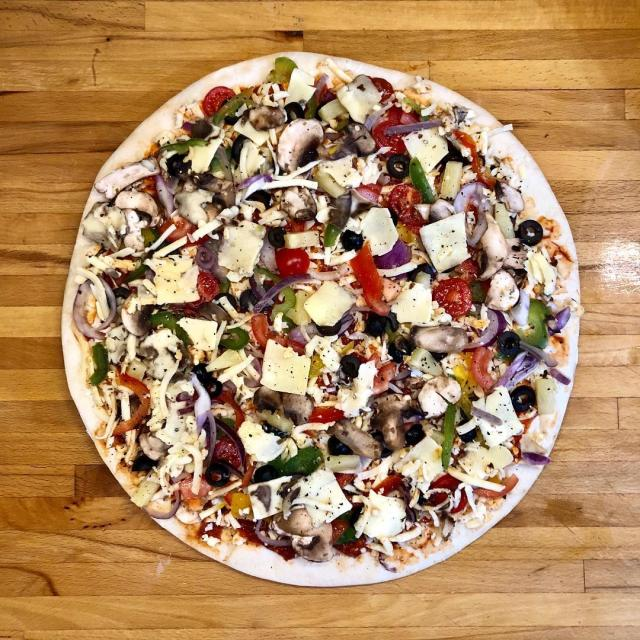black_olives: (517, 218, 543, 246), (511, 384, 536, 413), (205, 464, 233, 488), (386, 153, 410, 181), (231, 134, 251, 164), (371, 432, 394, 458), (246, 190, 276, 209), (438, 150, 468, 169), (340, 354, 361, 380), (327, 436, 352, 457), (364, 311, 385, 336), (131, 455, 160, 473), (250, 286, 273, 308), (342, 229, 364, 252), (498, 332, 520, 354), (457, 420, 478, 443), (112, 284, 132, 308), (284, 100, 304, 124), (389, 338, 409, 362), (140, 304, 163, 324), (166, 152, 186, 175), (213, 293, 237, 312), (406, 422, 426, 444), (253, 466, 282, 481), (268, 226, 287, 248), (191, 362, 213, 380), (316, 322, 343, 336), (206, 379, 223, 398), (240, 289, 256, 309), (384, 311, 398, 333)
mushrooms: (274, 509, 336, 563), (91, 158, 162, 200), (276, 117, 324, 177), (370, 393, 412, 452), (254, 385, 312, 426), (327, 419, 382, 462), (418, 376, 463, 420), (480, 212, 508, 282), (412, 324, 470, 356), (117, 188, 162, 228), (483, 270, 521, 312), (280, 184, 320, 220), (250, 106, 288, 132), (194, 173, 236, 196), (347, 124, 377, 156), (210, 192, 230, 213)
pizza: (69, 57, 584, 573)
tomatoes: (348, 243, 392, 315), (386, 185, 424, 226), (250, 314, 288, 350), (160, 218, 210, 245), (372, 120, 409, 156), (435, 280, 471, 317), (471, 346, 497, 390), (201, 85, 236, 116), (274, 247, 311, 276), (195, 272, 221, 300), (373, 76, 397, 106), (311, 406, 349, 423)
